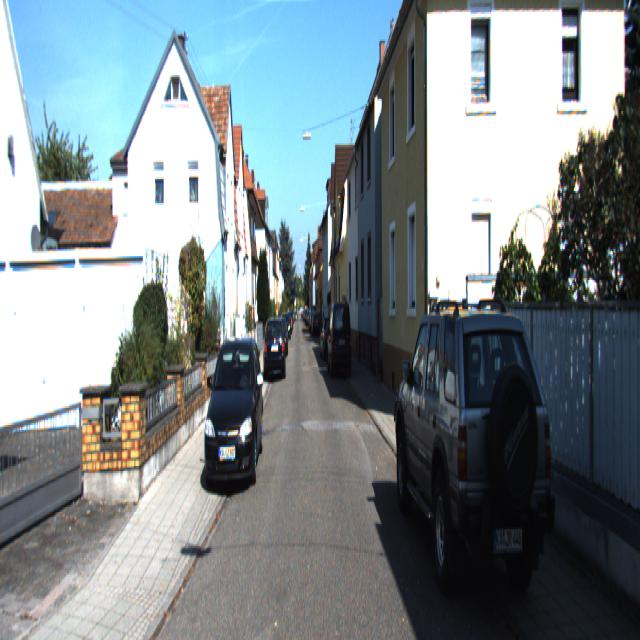Car: (391, 293, 558, 634), (202, 335, 264, 500), (328, 302, 354, 382), (266, 316, 286, 384)
